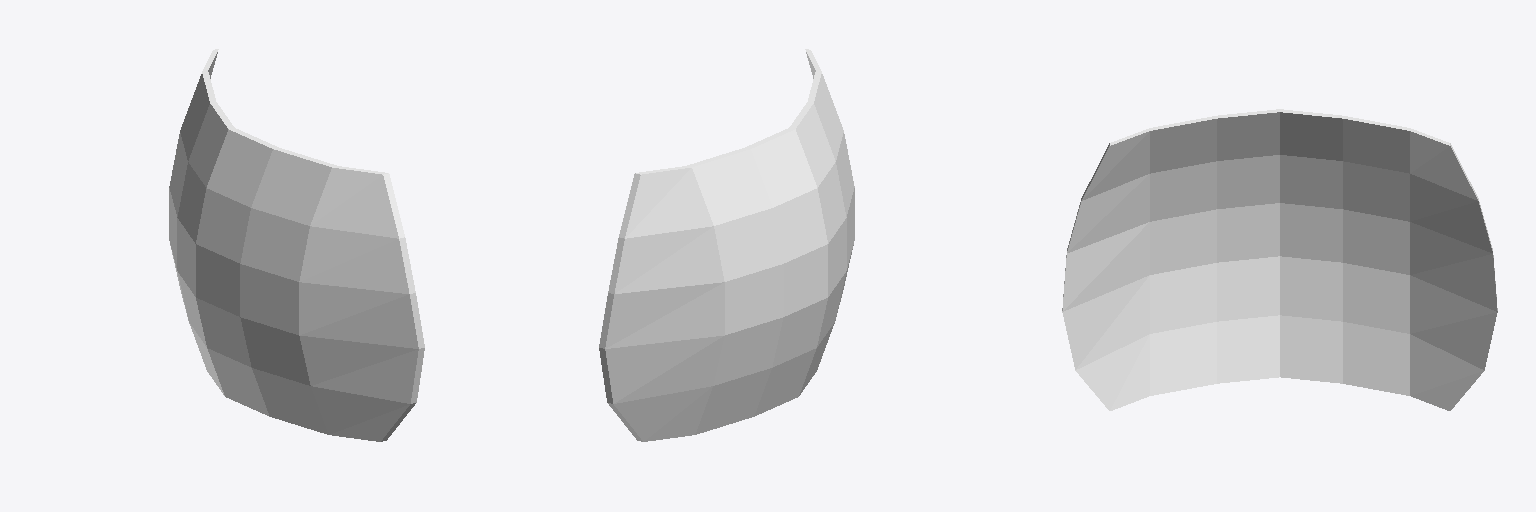
Rendered from ship_screen.obj.
3 views of the same model, side by side, from view 1: azimuth 30°, elevation 25°; view 2: azimuth 150°, elevation 25°; view 3: azimuth 270°, elevation 25° (orthographic).
Visible parts, largest first — view 1: pCube1; view 2: pCube1; view 3: pCube1.
Boxes of the visible parts, x1=… form: pCube1: x1=169, y1=49, x2=424, y2=441; pCube1: x1=599, y1=49, x2=854, y2=441; pCube1: x1=1062, y1=109, x2=1497, y2=410.
Size of the model in its own units: 28.51 by 60.3 by 89.14.